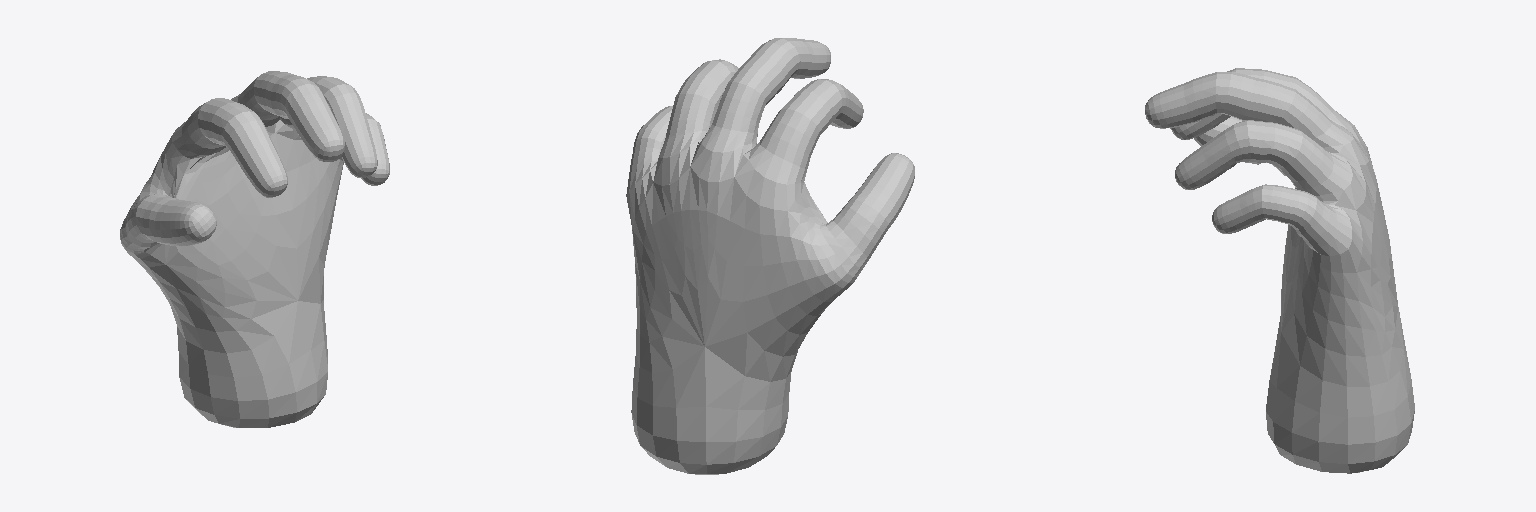
File: handanimatsion35.obj
3 views of the same model, side by side, from view 1: azimuth 30°, elevation 25°; view 2: azimuth 150°, elevation 25°; view 3: azimuth 270°, elevation 25° (orthographic).
Visible parts, largest first — view 1: Cube; view 2: Cube; view 3: Cube.
Part boxes in pixels (x1,y1,x2,y2): Cube: (120, 71, 389, 427); Cube: (626, 38, 914, 474); Cube: (1145, 68, 1414, 473).
Size of the model in its own units: 3.27 by 4.97 by 3.19.